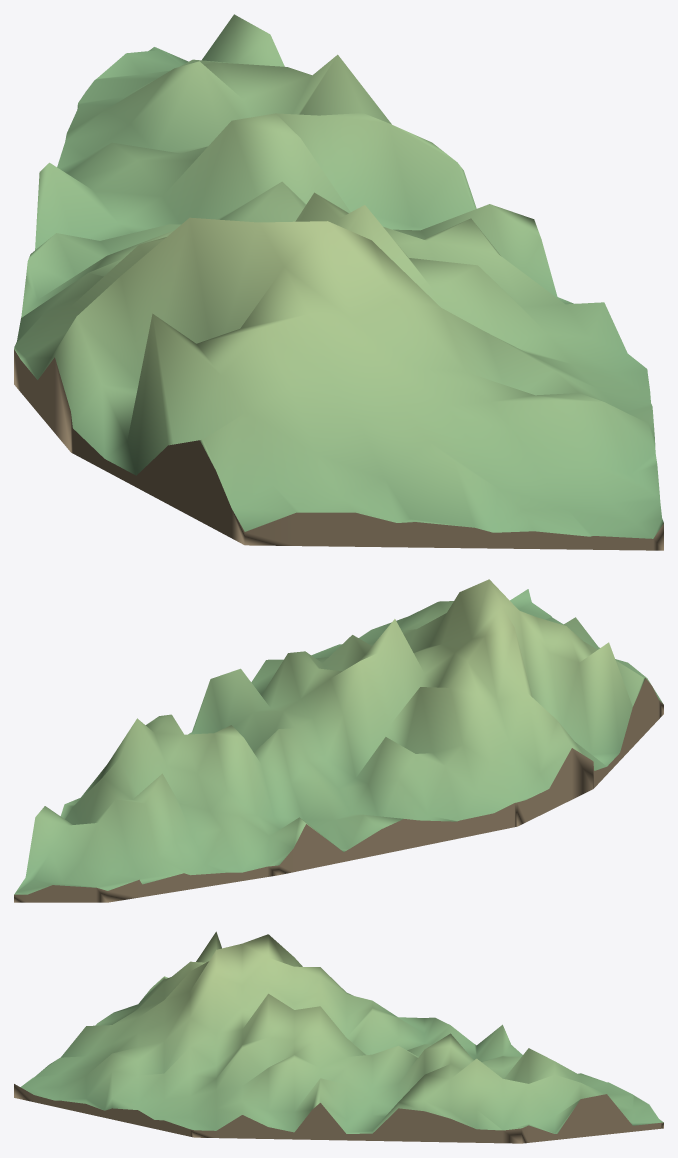
Rendered from LCA.glb.
3 renders of one model, top to bottom at view 1: azimuth 30°, elevation 25°; view 2: azimuth 150°, elevation 25°; view 3: azimuth 270°, elevation 25°, orthographic. The views are drawn at different scales.
Visible parts, largest first — view 1: LCA; view 2: LCA; view 3: LCA.
Part boxes in pixels (left/top/right/bottom): LCA: left=14, top=14, right=663, bottom=550; LCA: left=14, top=579, right=663, bottom=902; LCA: left=14, top=931, right=663, bottom=1143.
Size of the model in its own units: 0.8485 by 0.338 by 1.76.
